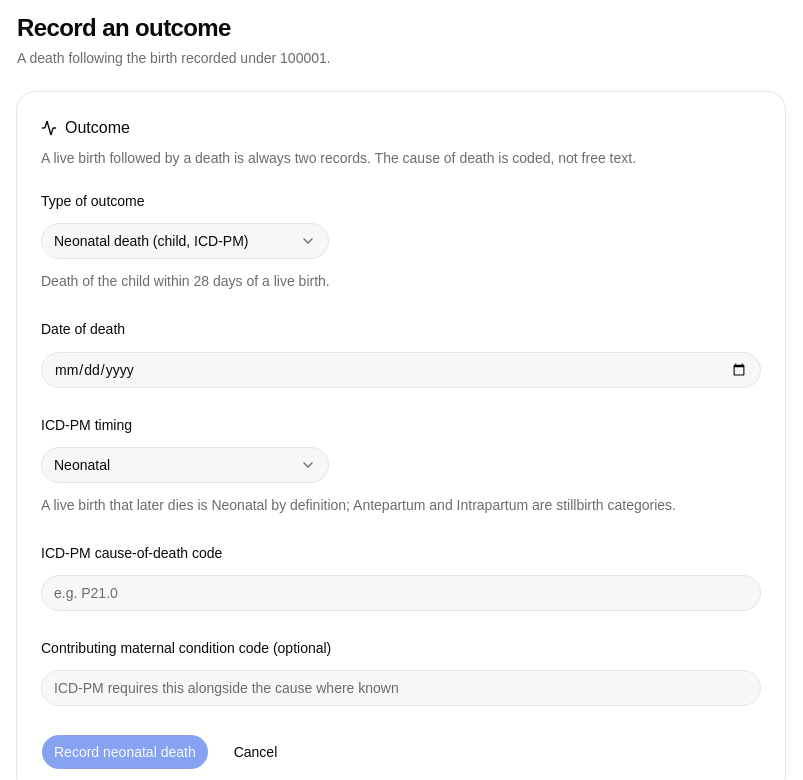
it: RecordOutcome › records a neonatal death against the record via the real endpoint
This screenshot has width=803, height=780.
Type "2026-06-05" into the date field labelled "Date of death" at coordinates (401, 370), box x1=41 y1=352 x2=761 y2=388
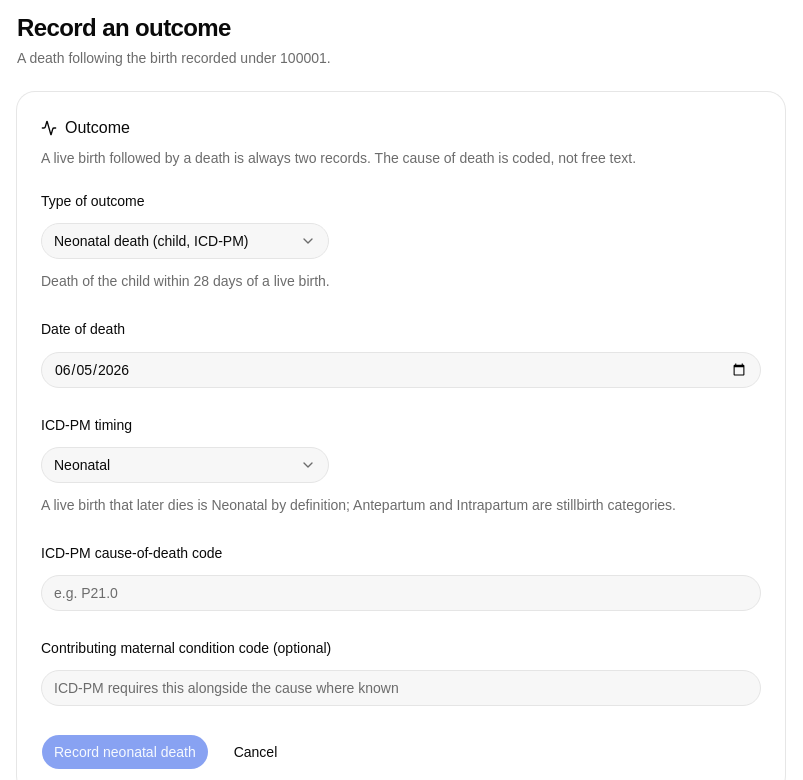
Type "P21.0" into the field labelled "ICD-PM cause-of-death code" at coordinates (401, 593), box x1=41 y1=575 x2=761 y2=611
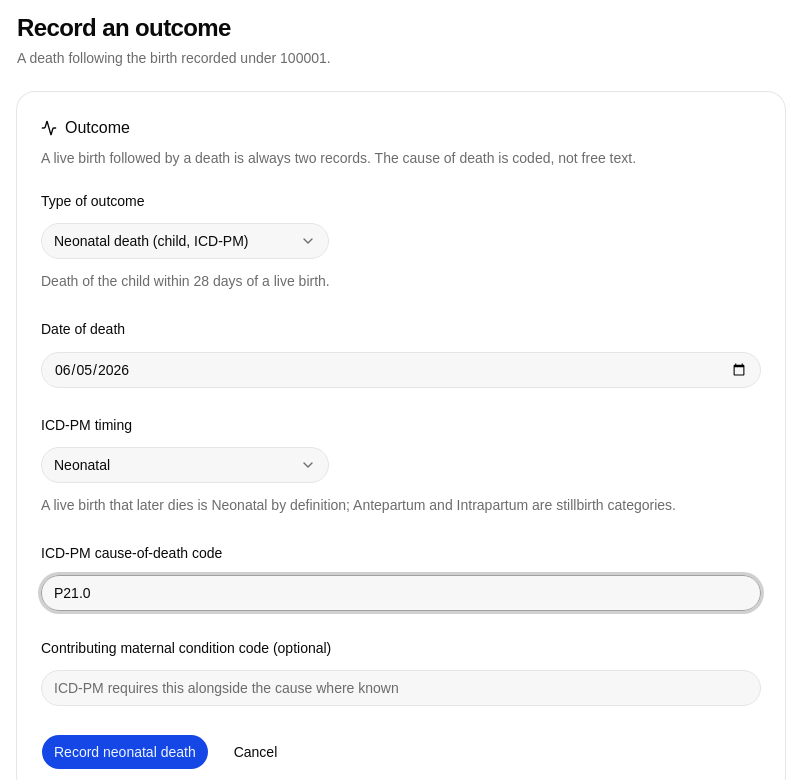
Click the button "Record neonatal death" at coordinates (125, 752), box x1=41 y1=734 x2=209 y2=770
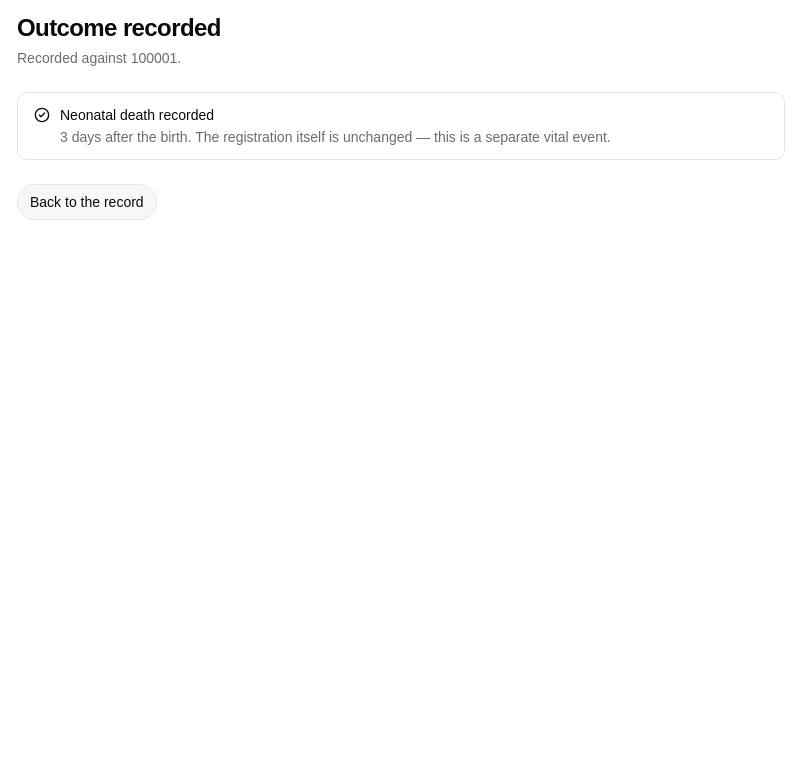
Expected: the text "Neonatal death recorded" is shown, x1=60 y1=107 x2=214 y2=123
Expected: the text "3 days after the birth" is shown, x1=60 y1=129 x2=611 y2=145
